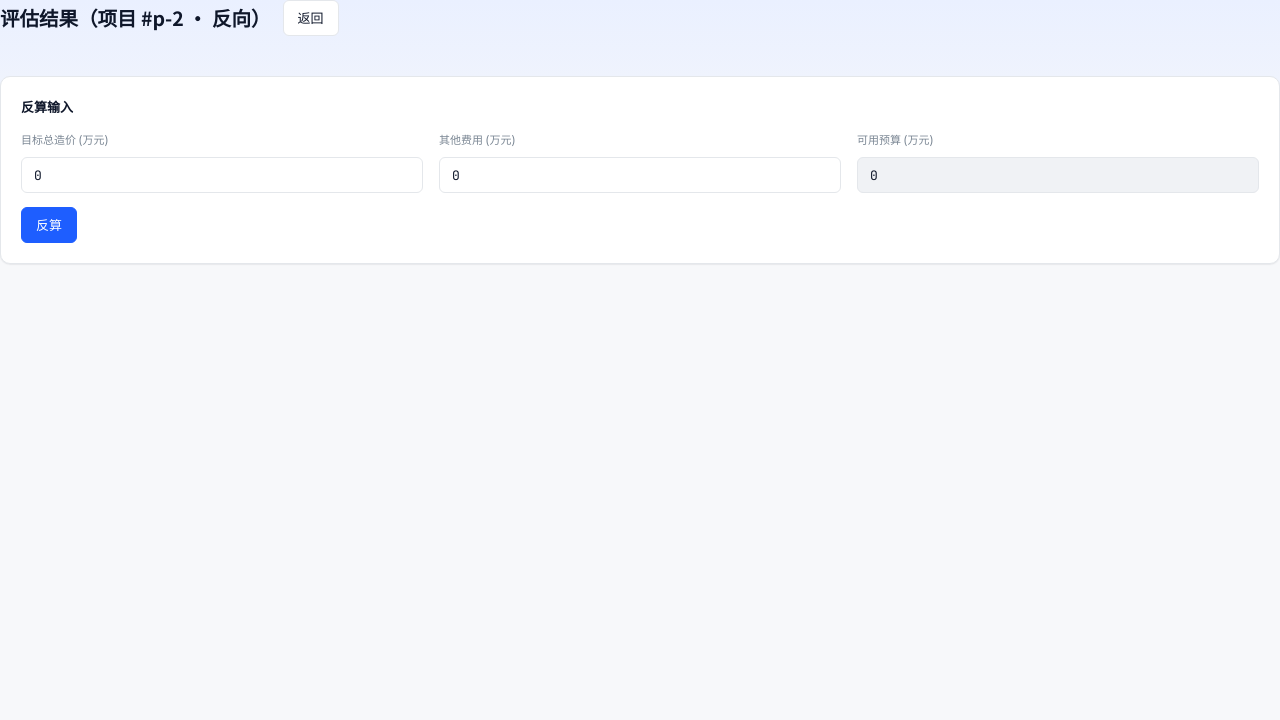
Scenario: ResultView › reverse 模式：targetTotal>0 → 调 reverse API 并显示三档 FP
Replace the text in the number field below "目标总造价 (万元)" with "1000000" at (222, 175), box [21,157,423,193]
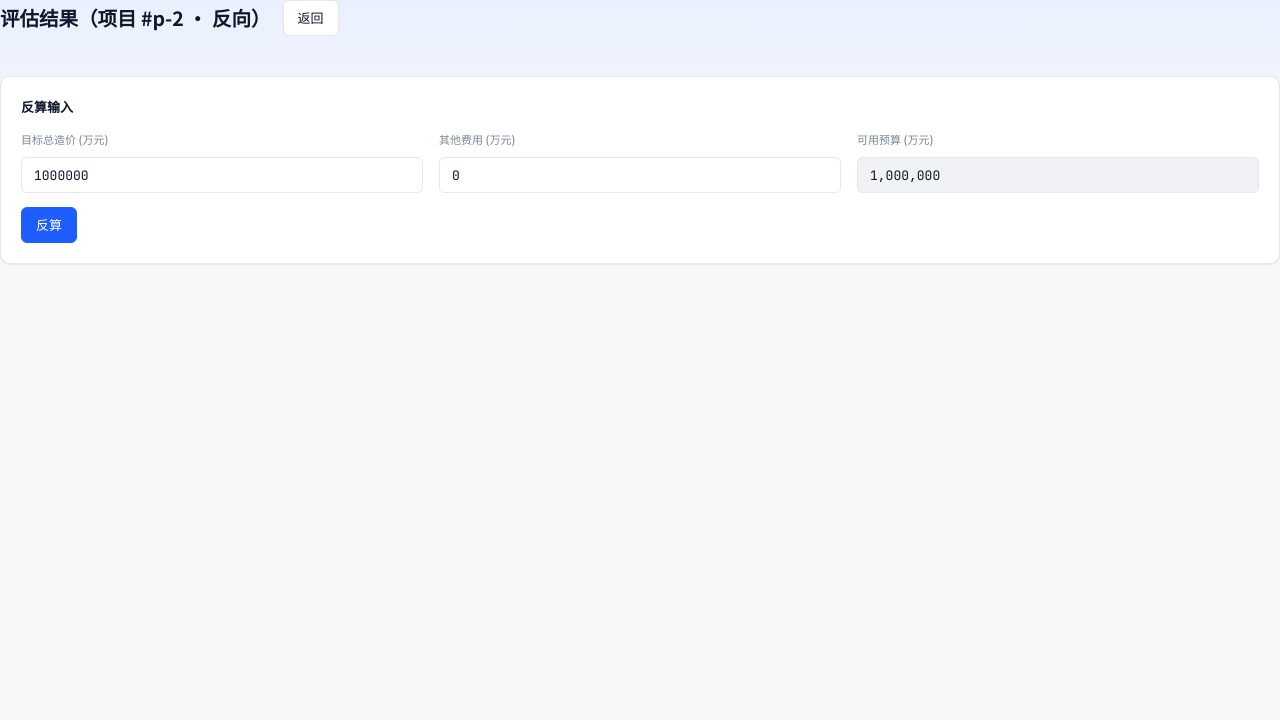
Replace the text in the number field below "其他费用 (万元)" with "50000" at (640, 175), box [439,157,841,193]
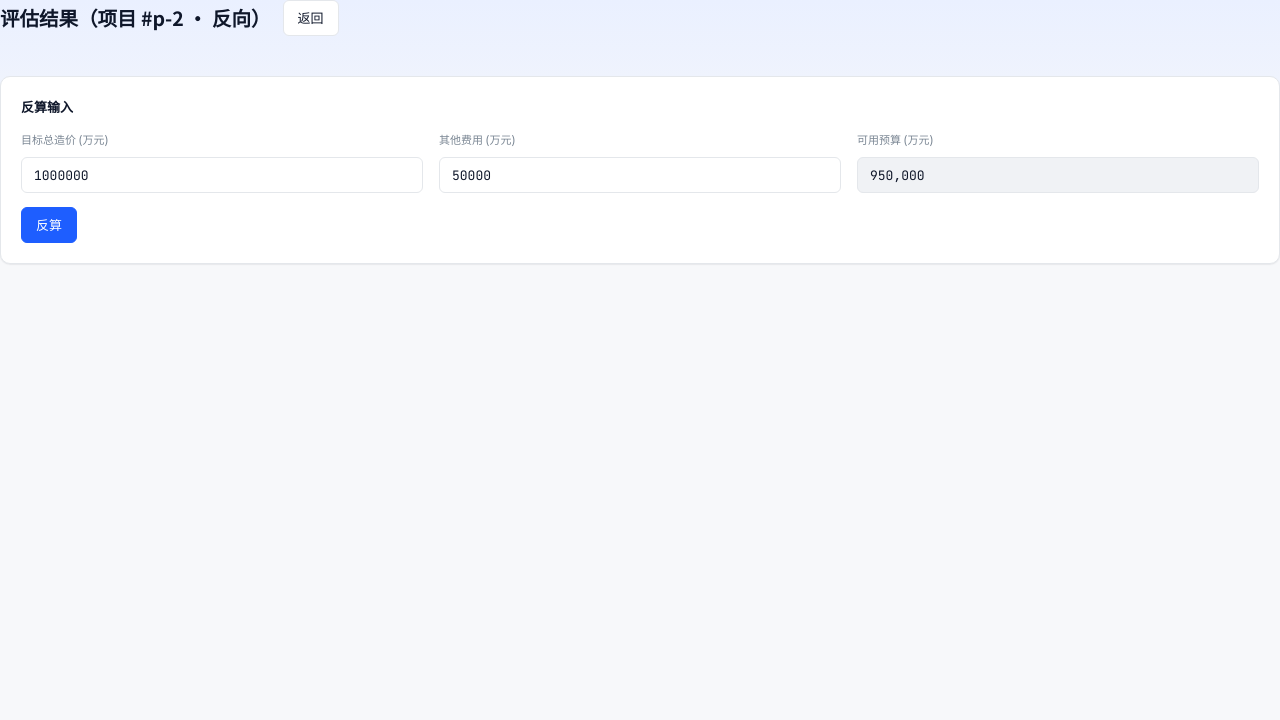
Click the button "反算" at (49, 225), box [21,207,77,243]
(page scrolled)
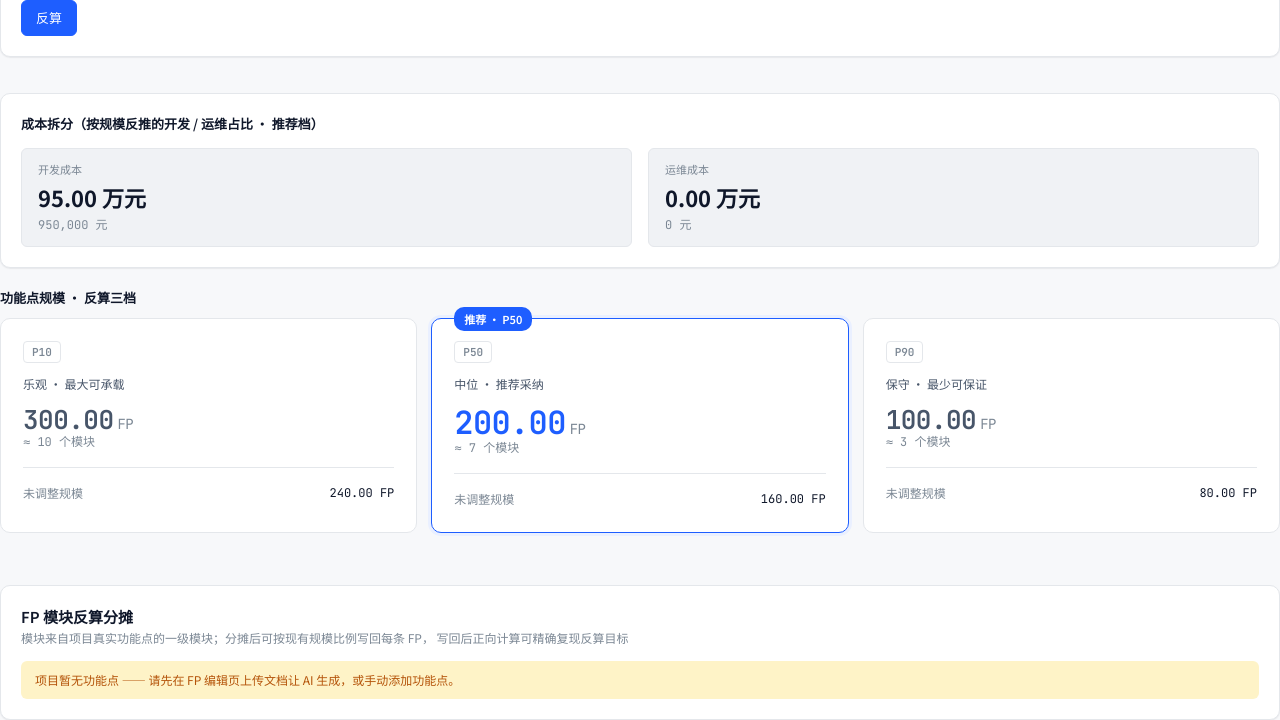
Expected: the text "FP" is shown, [118,415,133,433]
Expected: the element with class "result-trio" is shown, [0,318,1279,533]
